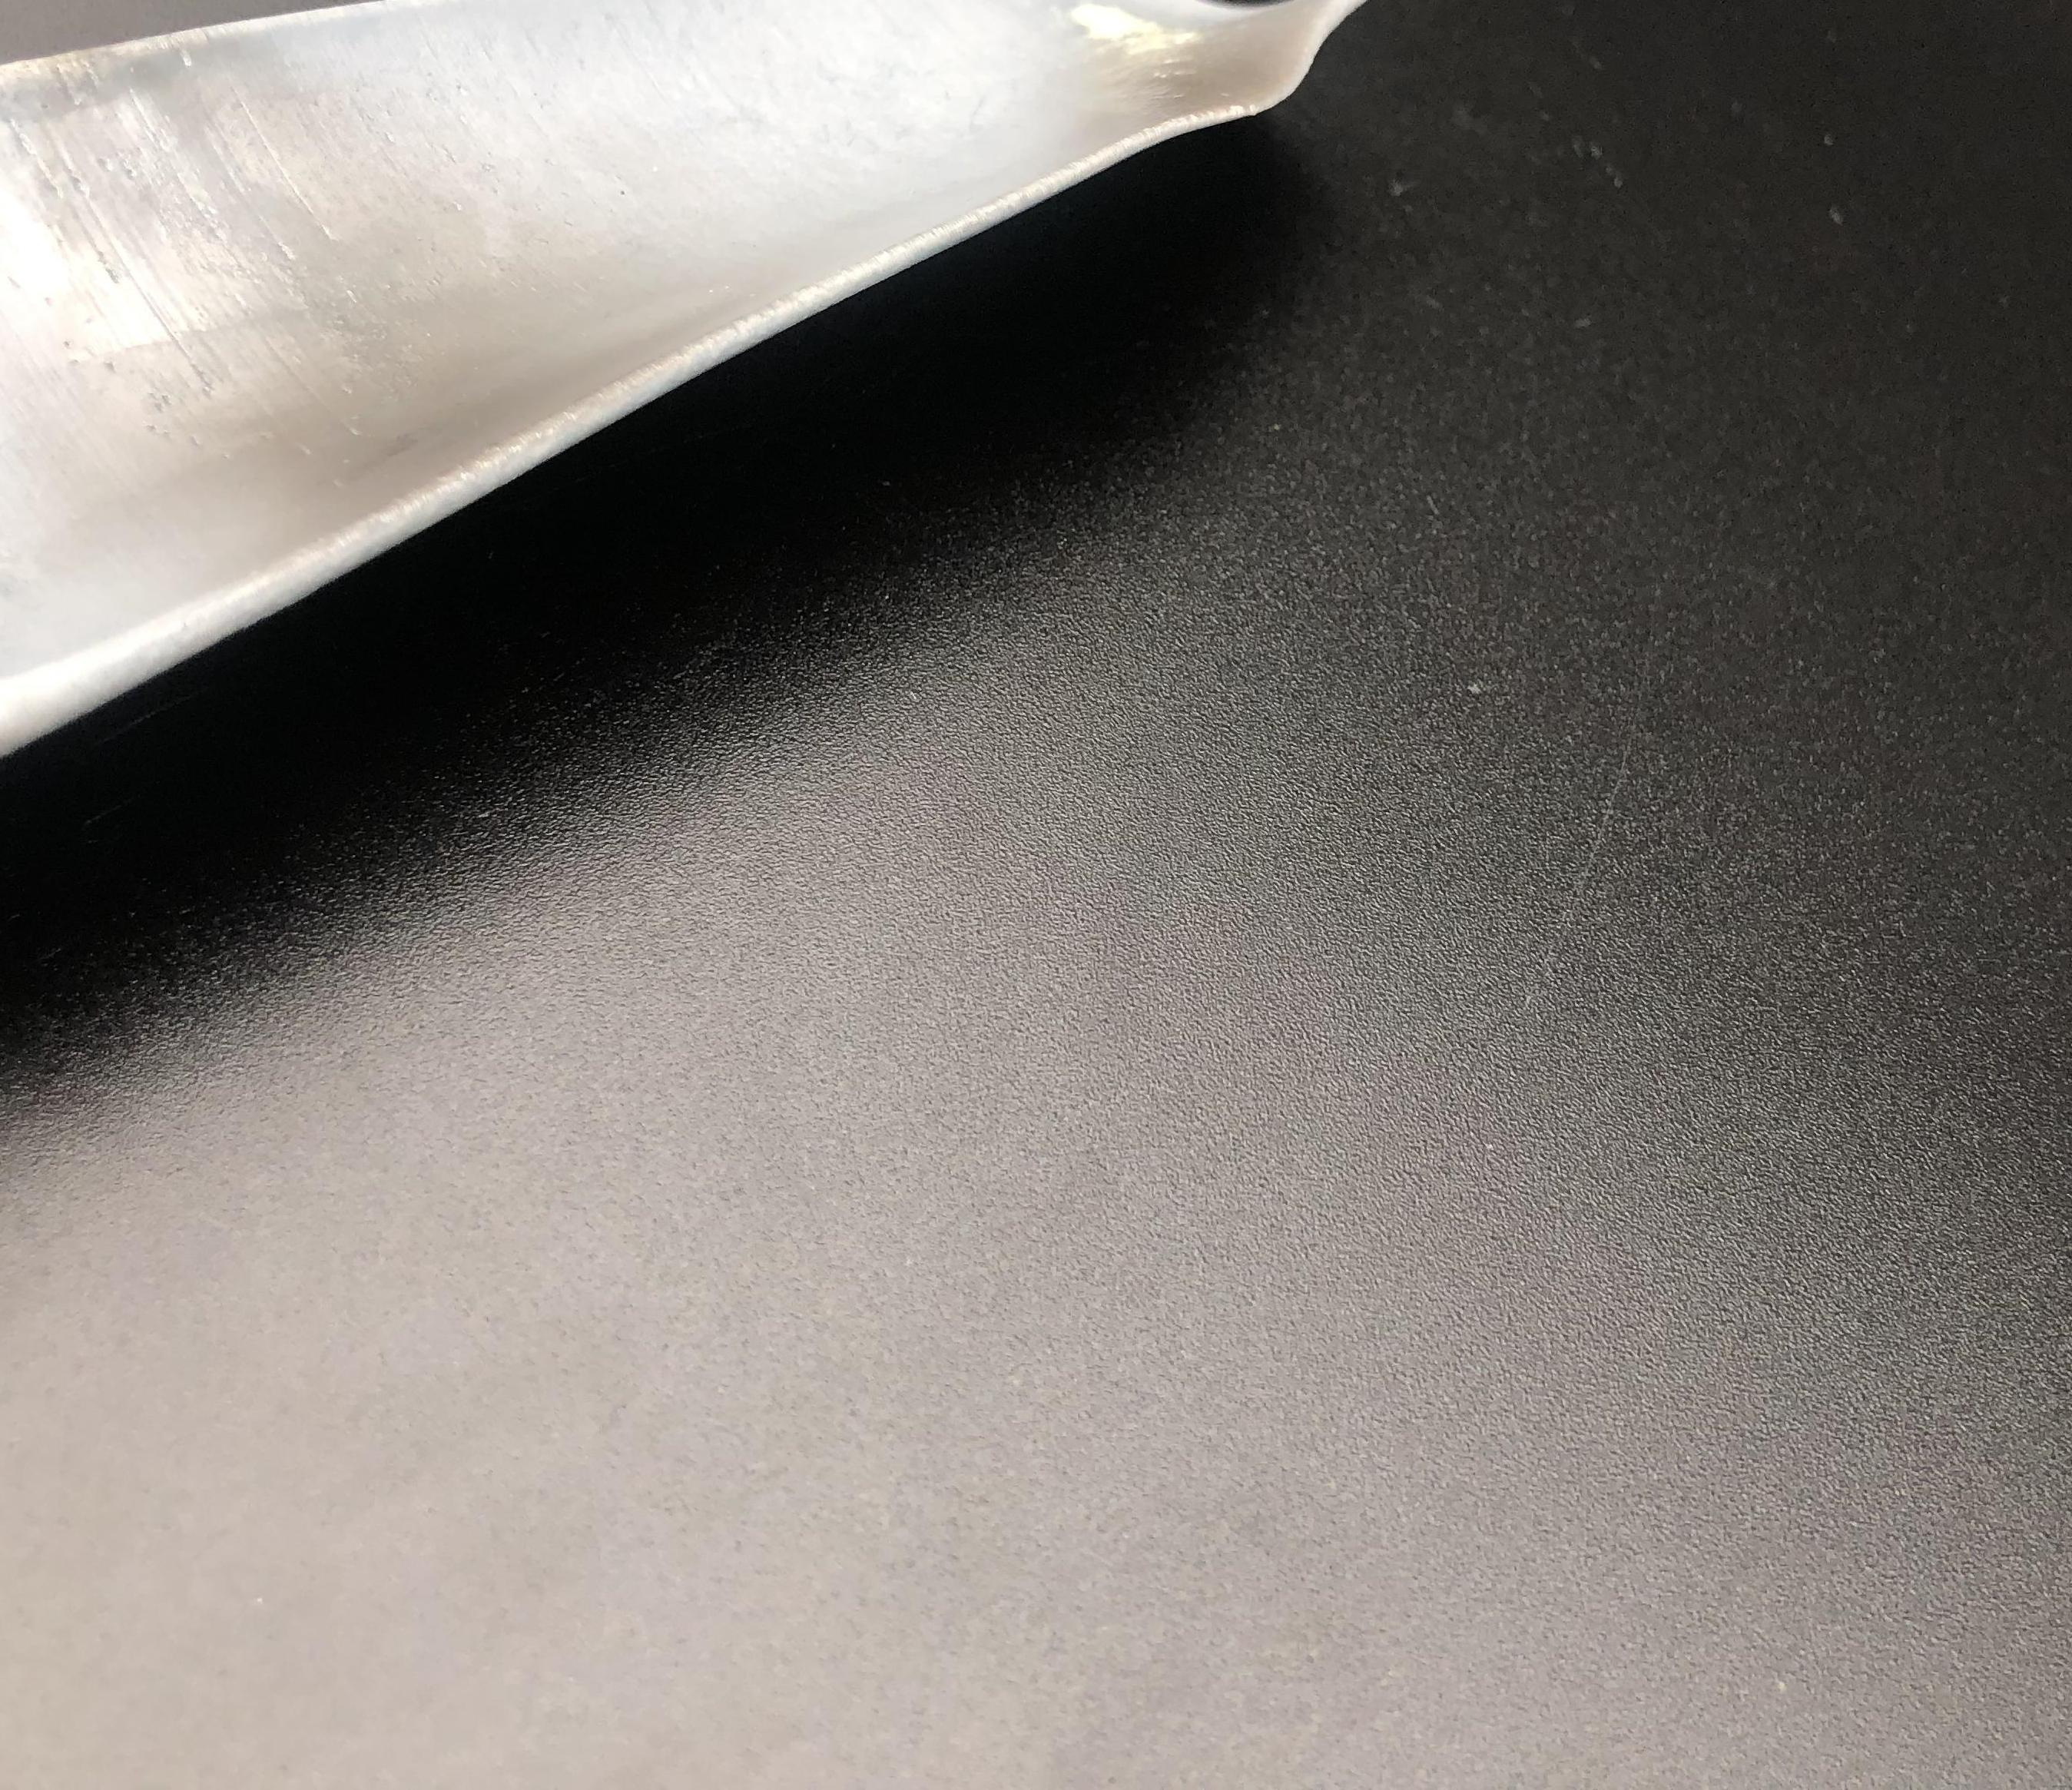ablation: (157, 143, 611, 403), (1122, 9, 1299, 107)
